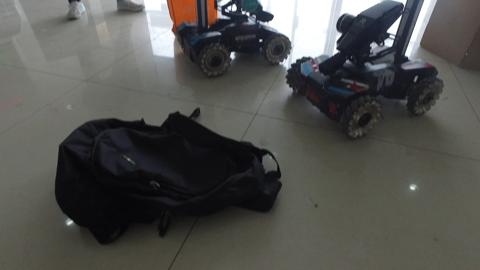bag: (55, 118, 288, 241)
chariot: (285, 1, 444, 137), (180, 1, 295, 73)
